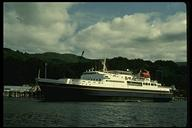cloud: (81, 12, 184, 51), (8, 3, 79, 43)
ship: (36, 58, 180, 106)
sky: (4, 6, 185, 53)
water: (9, 104, 183, 125)
